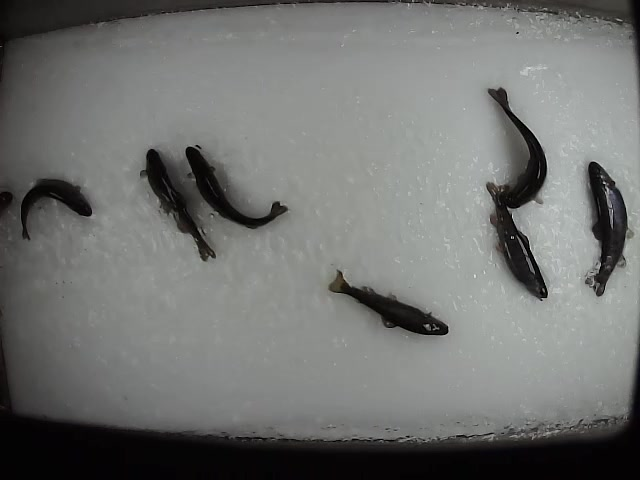fish: (184, 142, 291, 232), (136, 145, 217, 263), (326, 266, 450, 335), (487, 84, 549, 217), (481, 179, 548, 300), (584, 156, 636, 301), (18, 175, 93, 242)
